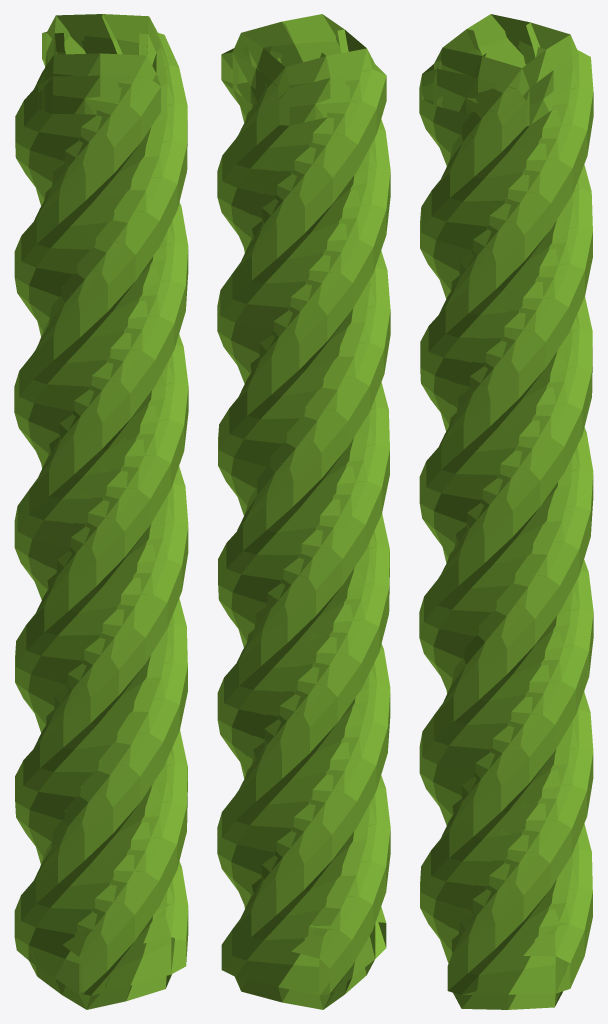
The model's file is vine naked.fbx.
3 renders of one model, left to right at view 1: azimuth 30°, elevation 25°; view 2: azimuth 150°, elevation 25°; view 3: azimuth 270°, elevation 25°, orthographic.
Parts seen in each view (by area): view 1: vine; view 2: vine; view 3: vine.
Boxes of the visible parts, x1,y1,x2,y2 form: vine: [14, 14, 188, 1009]; vine: [217, 14, 390, 1009]; vine: [419, 14, 593, 1009].
Size of the model in its own units: 169 by 1017 by 169.
